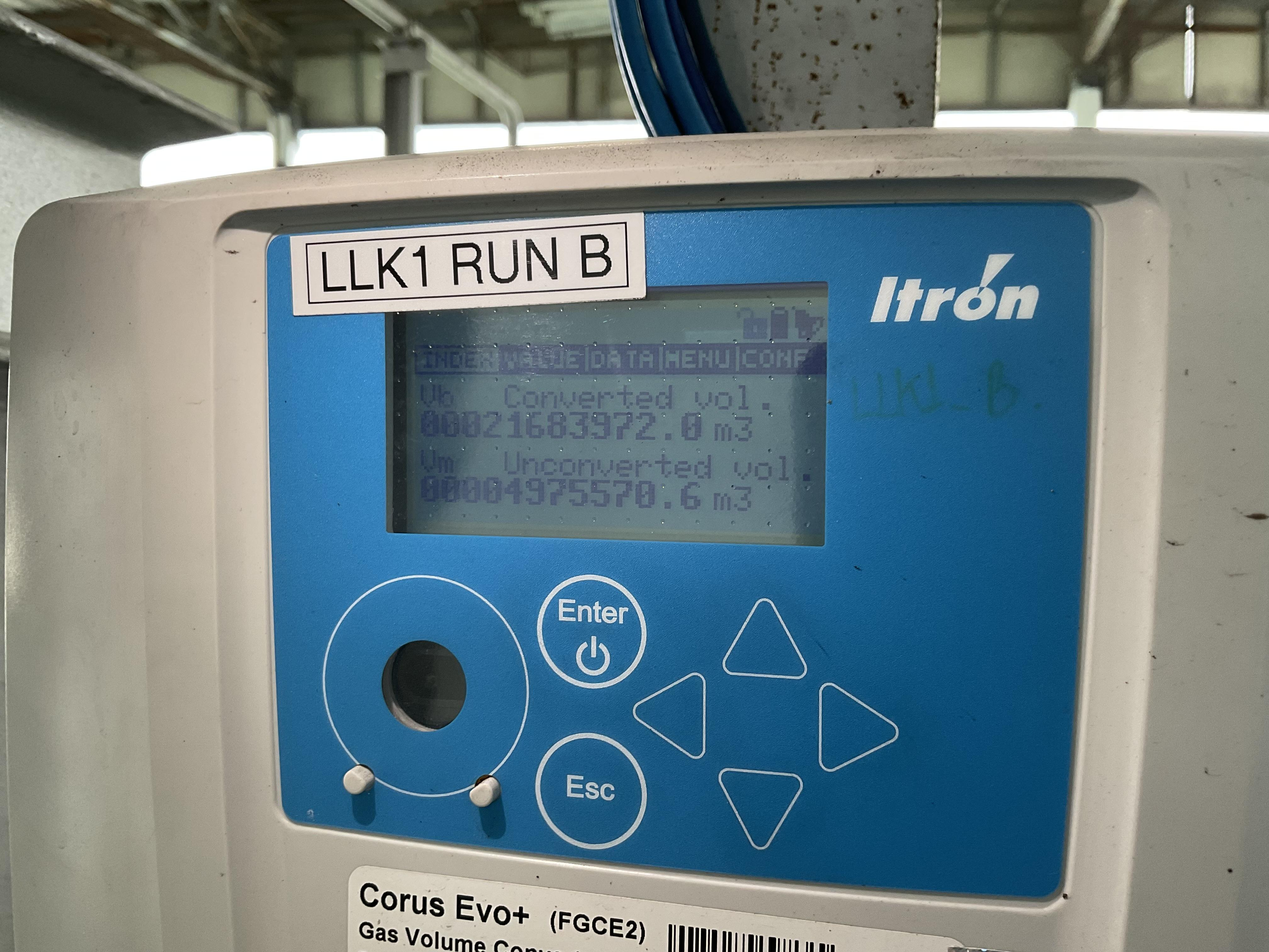digital_screen: (385, 283, 828, 548)
